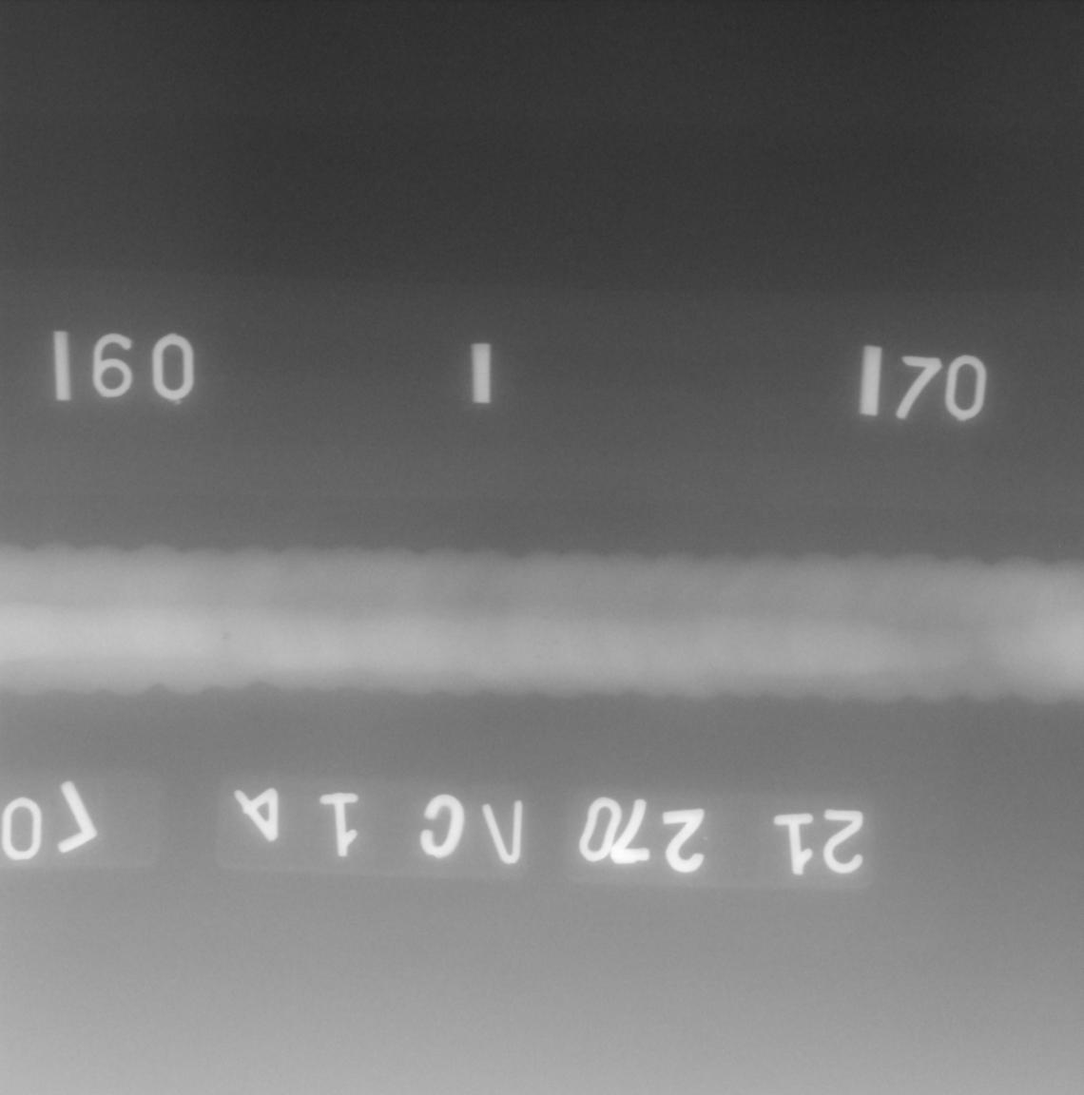Pore/Porosity: (222, 632, 230, 640), (536, 655, 541, 659), (555, 641, 559, 644)
